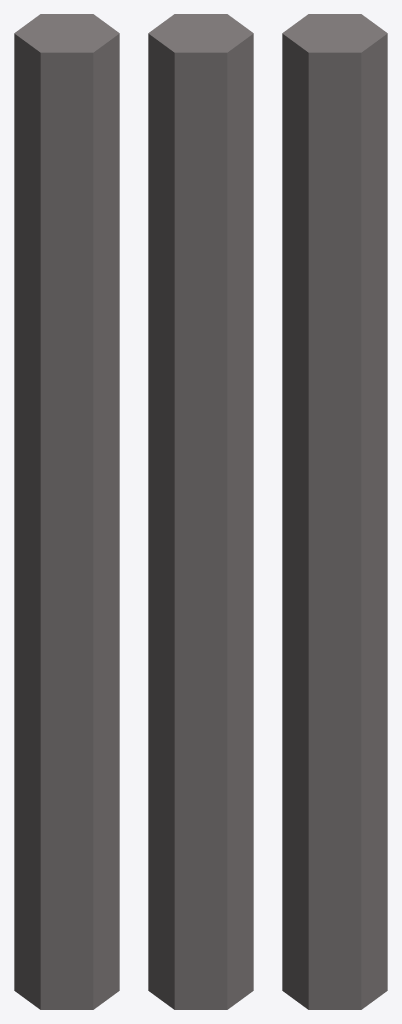
The model's file is belt-moving-column.glb.
3 views of the same model, side by side, from view 1: azimuth 30°, elevation 25°; view 2: azimuth 210°, elevation 25°; view 3: azimuth 330°, elevation 25° (orthographic).
Parts seen in each view (by area): view 1: belt-moving-column; view 2: belt-moving-column; view 3: belt-moving-column.
Boxes of the visible parts, left/top/right/bottom form: belt-moving-column: left=14, top=14, right=119, bottom=1009; belt-moving-column: left=148, top=14, right=253, bottom=1009; belt-moving-column: left=282, top=14, right=387, bottom=1009.
Bounding box in the file's own units: 0.1732 × 2 × 0.2.
Materials: 1 (1 with a texture image).
